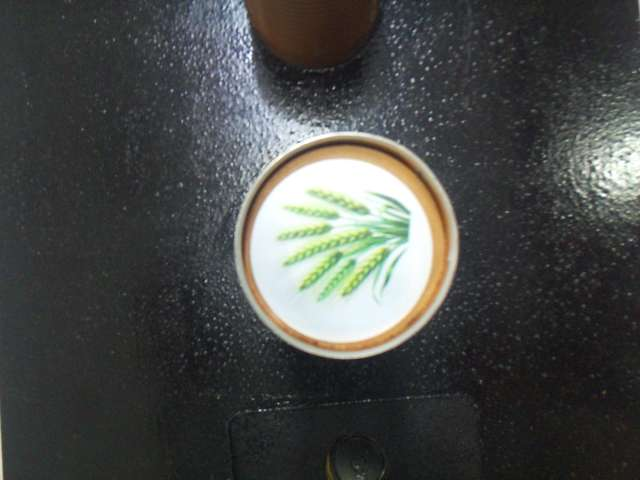wheat_barrel: (251, 158, 431, 340)
